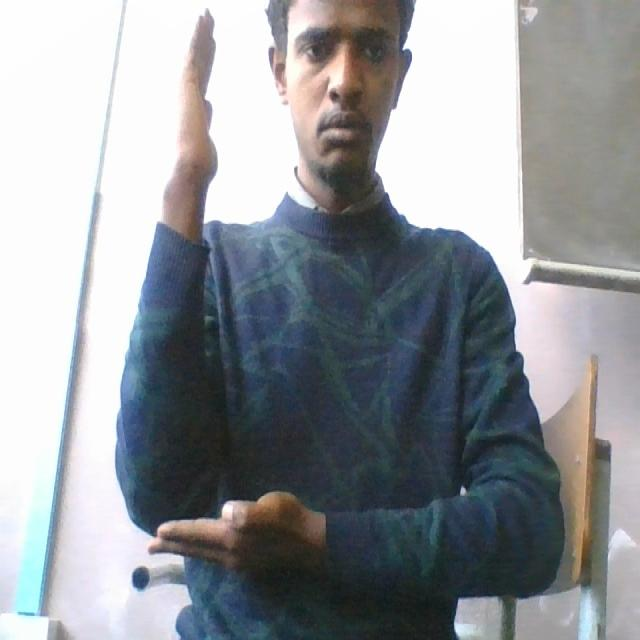egziabher: (129, 8, 330, 610)
